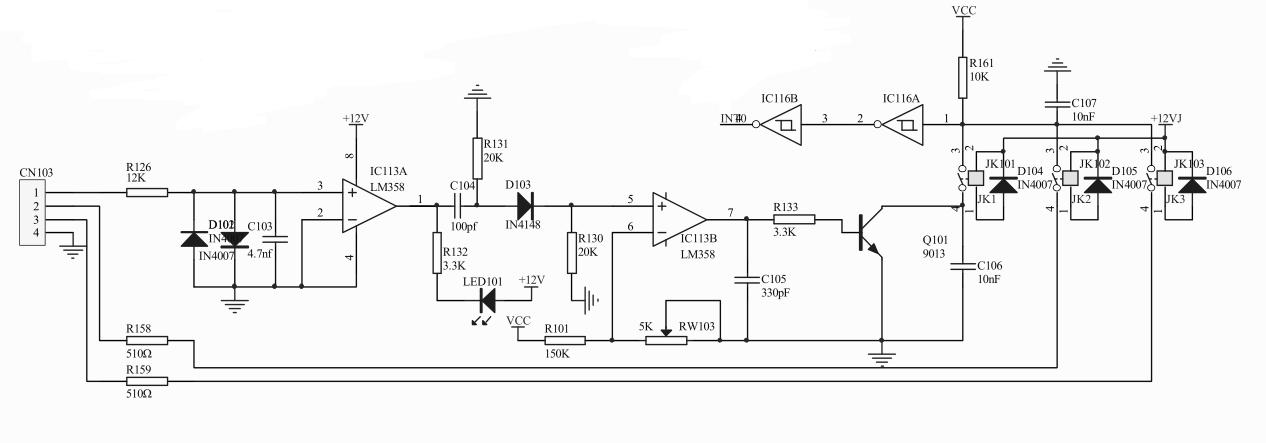amplifier: (643, 186, 716, 249), (333, 173, 403, 238)
cap1: (946, 253, 980, 276), (731, 269, 763, 291), (1040, 93, 1073, 113), (258, 231, 291, 248)
diode: (511, 189, 539, 223), (177, 225, 211, 252), (1082, 171, 1116, 198), (1177, 172, 1211, 198), (986, 173, 1021, 198), (220, 227, 251, 253), (476, 286, 500, 317)
gnd: (1041, 53, 1076, 77), (460, 82, 496, 104), (218, 295, 252, 317), (864, 349, 902, 368), (580, 285, 601, 315), (56, 241, 87, 261)
res1: (468, 134, 486, 184), (769, 211, 819, 229), (539, 332, 591, 349), (564, 228, 580, 279), (643, 332, 691, 349), (955, 52, 971, 103), (429, 229, 445, 278), (122, 186, 172, 201), (121, 373, 171, 388), (124, 334, 171, 349)
switch: (1046, 158, 1063, 195), (1142, 159, 1157, 196), (952, 161, 967, 196)
triode: (851, 202, 891, 263)
